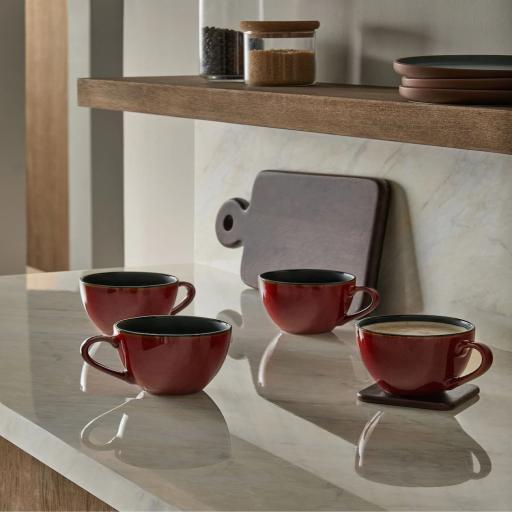cup: (80, 316, 232, 397), (356, 314, 494, 397), (258, 268, 380, 336), (80, 270, 195, 336)
